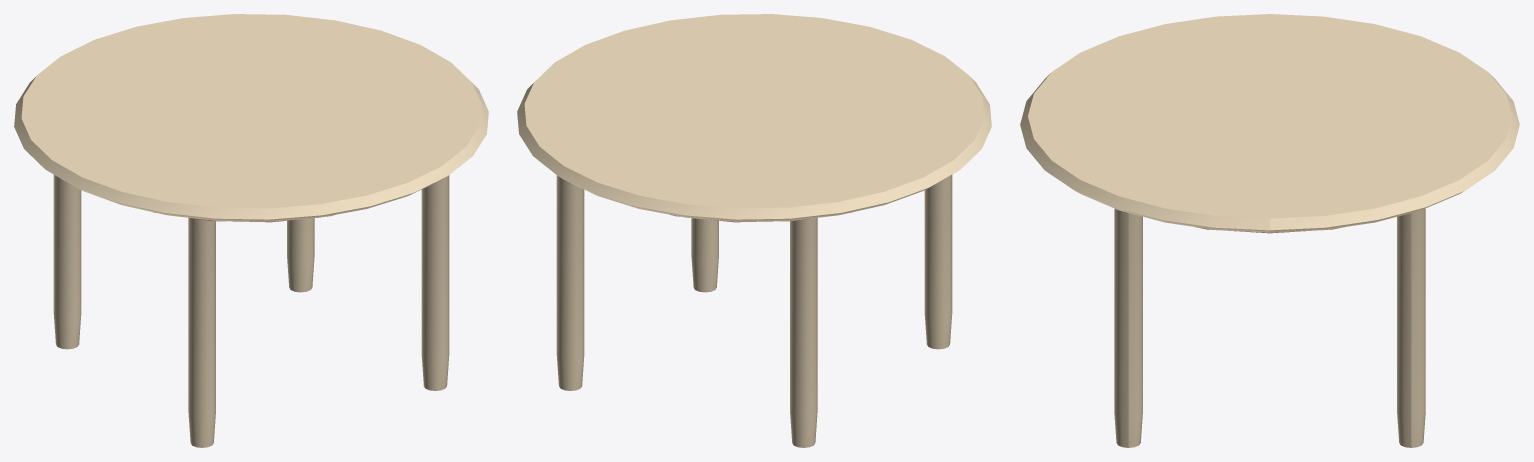
The model's file is nursery-and-primary-classroom-child-table-round-9cc7b599__34982.glb.
3 renders of one model, left to right at view 1: azimuth 30°, elevation 25°; view 2: azimuth 150°, elevation 25°; view 3: azimuth 270°, elevation 25°, orthographic. The views are drawn at different scales.
Visible parts, largest first — view 1: child-table-round; view 2: child-table-round; view 3: child-table-round.
Part boxes in pixels (x1,y1,x2,y2): child-table-round: (14, 14, 488, 447); child-table-round: (517, 14, 991, 447); child-table-round: (1020, 14, 1519, 447).
Bounding box in the file's own units: 0.9 × 0.5301 × 0.9.
